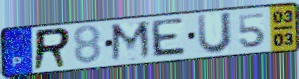5: (237, 12, 267, 50)
8: (71, 24, 106, 67)
E: (150, 17, 188, 59)
M: (109, 19, 154, 64)
R: (31, 26, 73, 72)
U: (195, 11, 234, 56)
